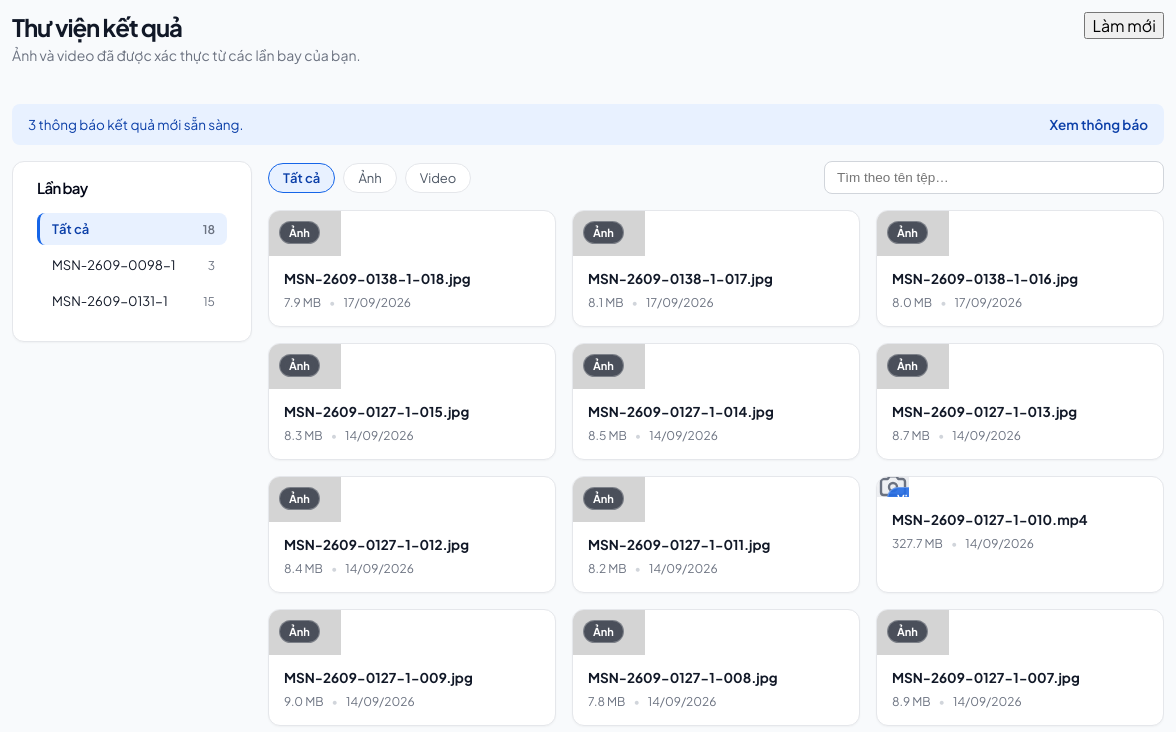
Scenario: MediaLibraryPage › filters by mission, type and file name, with an empty state and clear
Click the button "MSN-2609-0131-1 15" at (132, 301), box left=37, top=285, right=227, bottom=317
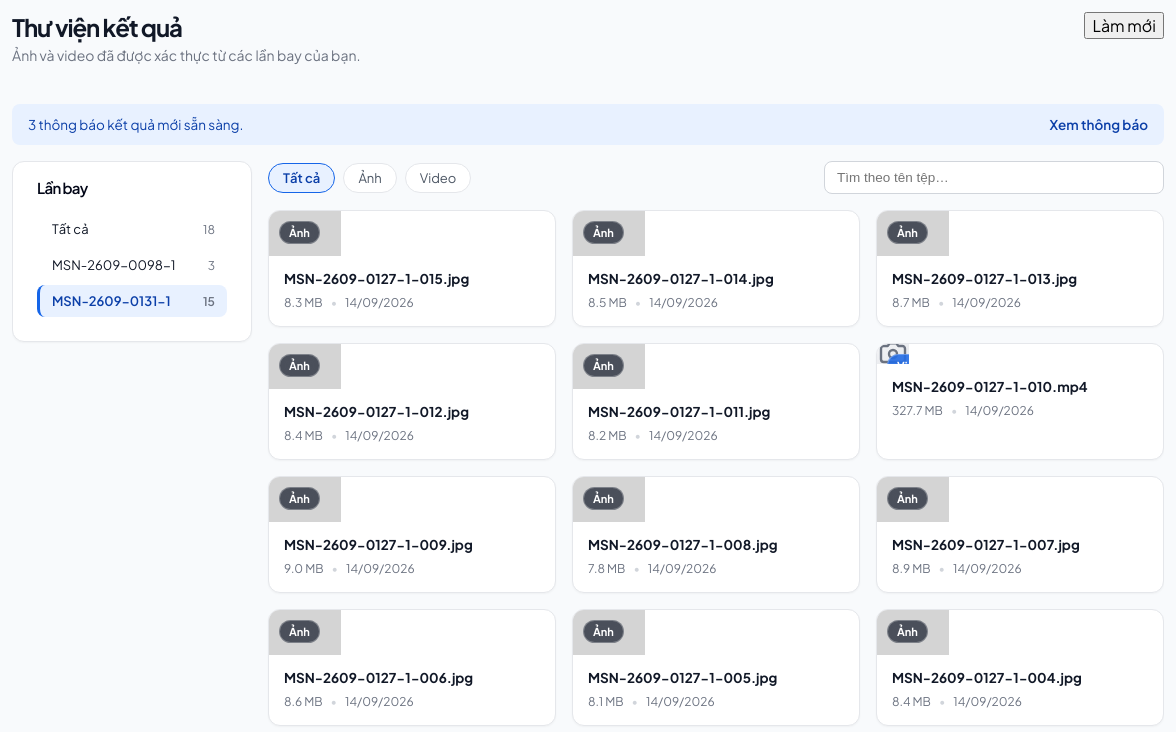
expect the number of buttons named "Xem " is 15: met
Click the button "Video" at (438, 178), box left=405, top=162, right=471, bottom=192
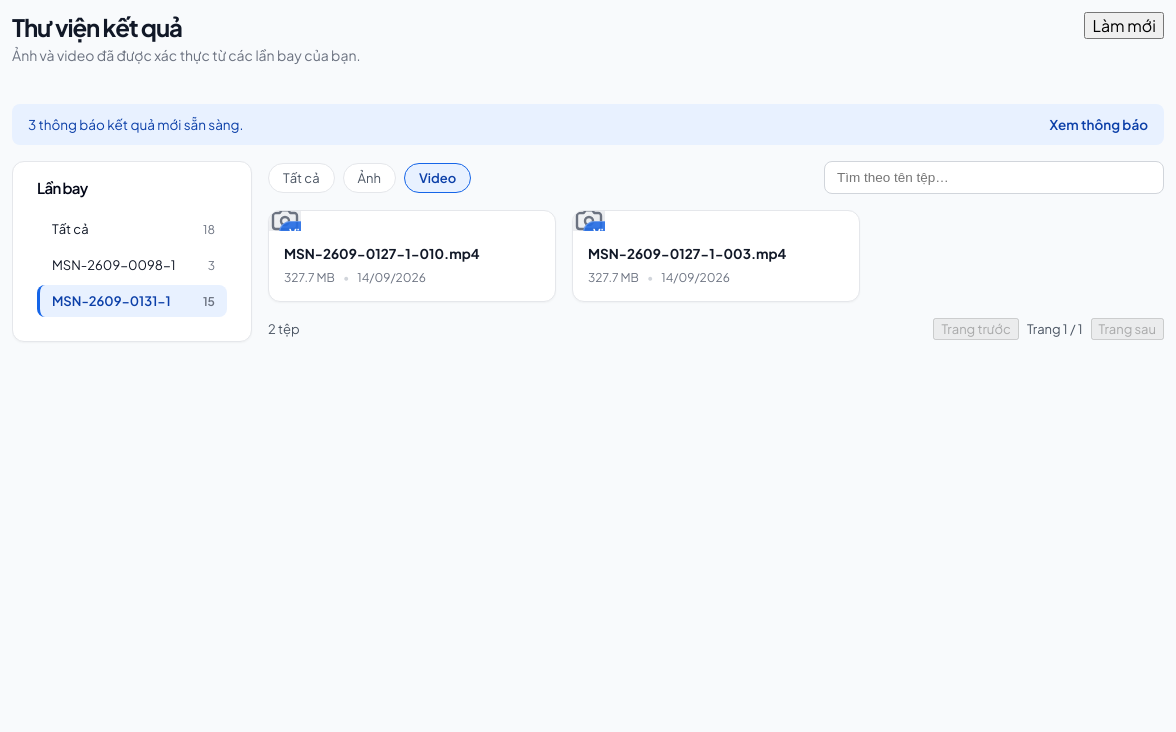
Type "khong-co-tep" into the search field labelled "Tìm theo tên tệp" at (994, 178), box left=824, top=161, right=1164, bottom=194
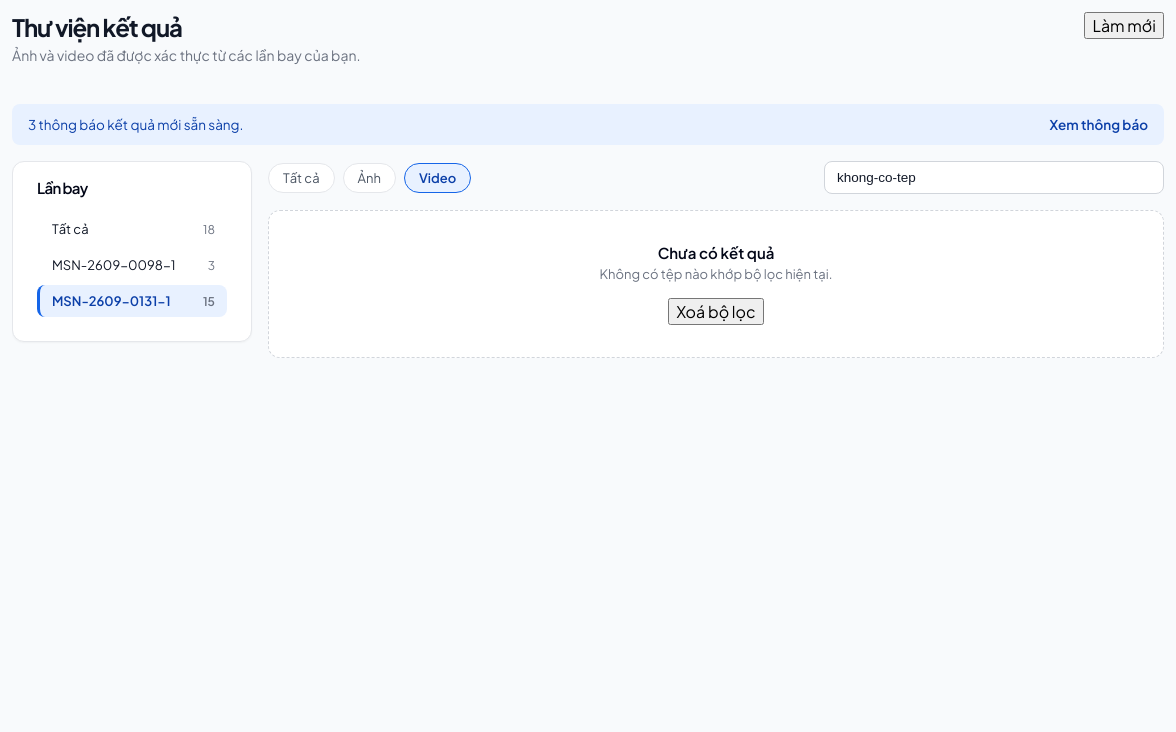
expect the text "Không có tệp nào khớp bộ lọc hiện tại." is shown: met, box left=600, top=266, right=832, bottom=282
Click the button "Xoá bộ lọc" at (716, 312), box left=668, top=298, right=764, bottom=325
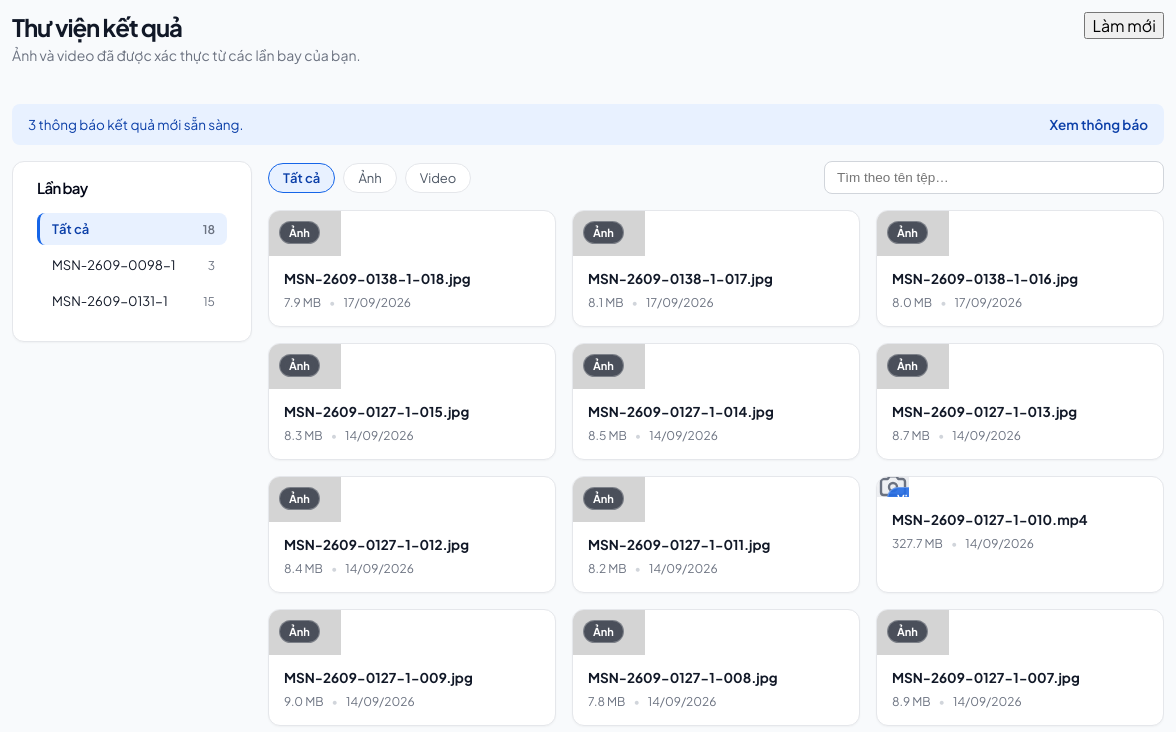
expect the number of buttons named "Xem " is 18: met
